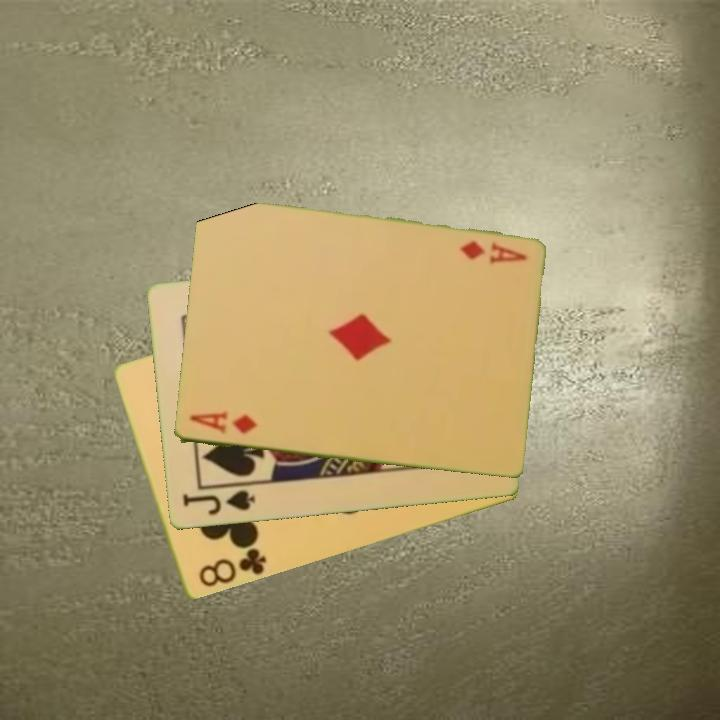8c: (195, 540, 269, 591)
Ad: (456, 237, 530, 266), (186, 409, 260, 437)
Js: (178, 487, 258, 519)
